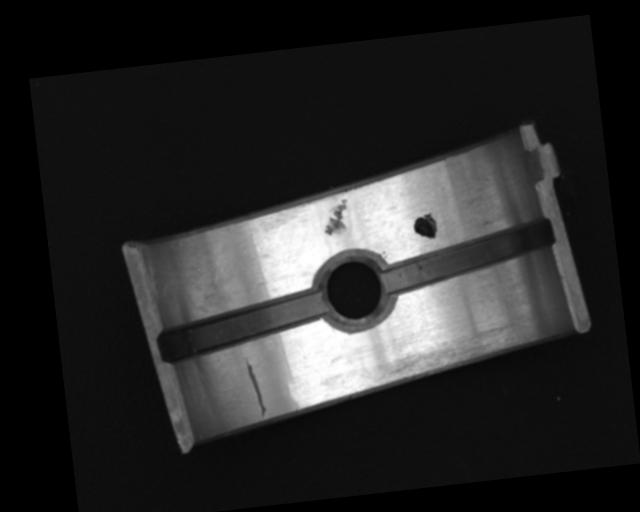blot: (411, 211, 438, 241)
bruise: (321, 197, 352, 236)
gap: (379, 217, 558, 296), (157, 289, 331, 364)
hole: (311, 248, 397, 333)
nick: (244, 354, 267, 420)
scratch: (362, 321, 527, 389)
